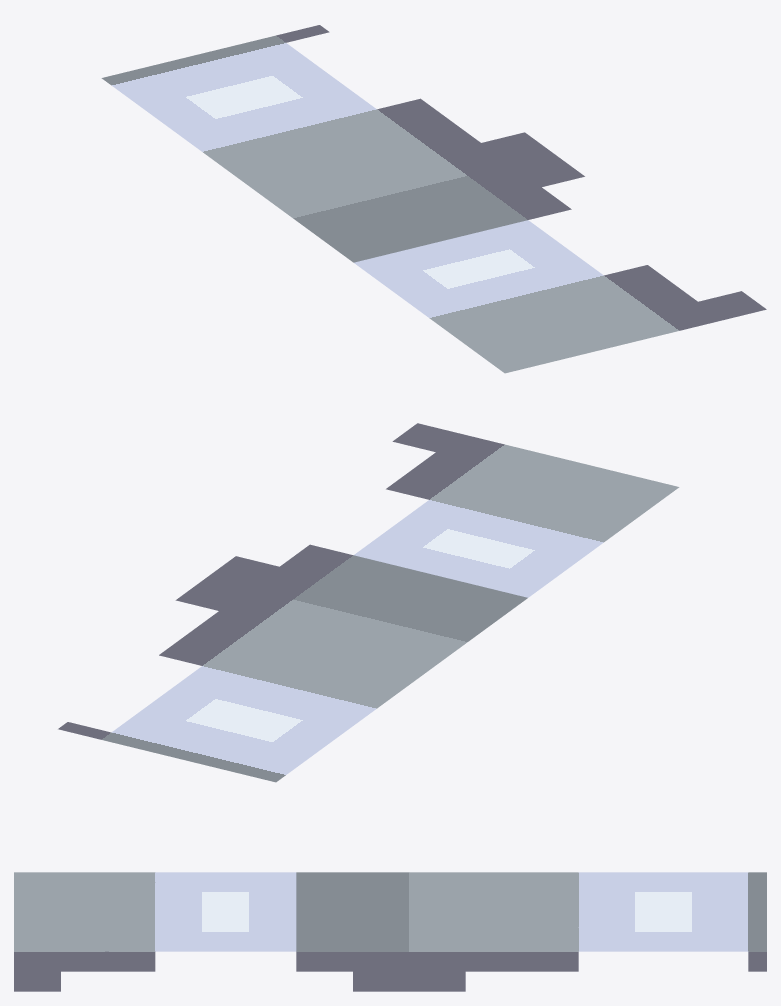
3 views of the same model, one above another, from view 1: azimuth 30°, elevation 25°; view 2: azimuth 150°, elevation 25°; view 3: azimuth 270°, elevation 25° (orthographic). The views are drawn at different scales.
Size of the model in its own units: 0.5 by 0 by 1.
Materials: 1 (1 with a texture image).
